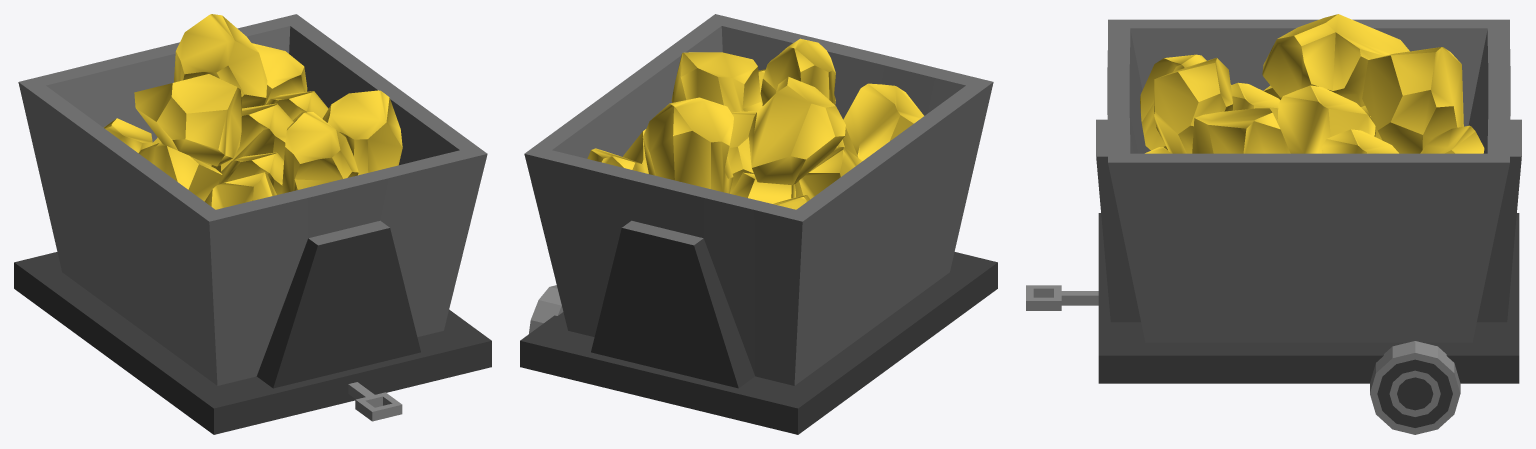
Rendered from Cart and gold.fbx.
The picture shows the model from 3 angles, left to right: view 1: azimuth 30°, elevation 25°; view 2: azimuth 150°, elevation 25°; view 3: azimuth 270°, elevation 25°; orthographic projection. The views are drawn at different scales.
Visible parts, largest first — view 1: cart, Gold; view 2: cart, Gold, Cartwheel; view 3: cart, Gold, Cartwheel.
Boxes of the visible parts, x1,y1,x2,y2 form: cart: (14, 14, 491, 434); Gold: (103, 14, 402, 209); cart: (520, 14, 997, 434); Gold: (587, 38, 923, 209); Cartwheel: (529, 285, 563, 333); cart: (1026, 19, 1521, 383); Gold: (1140, 14, 1484, 153); Cartwheel: (1370, 341, 1460, 434).
Bounding box in the file's own units: 136 × 131 × 186.
